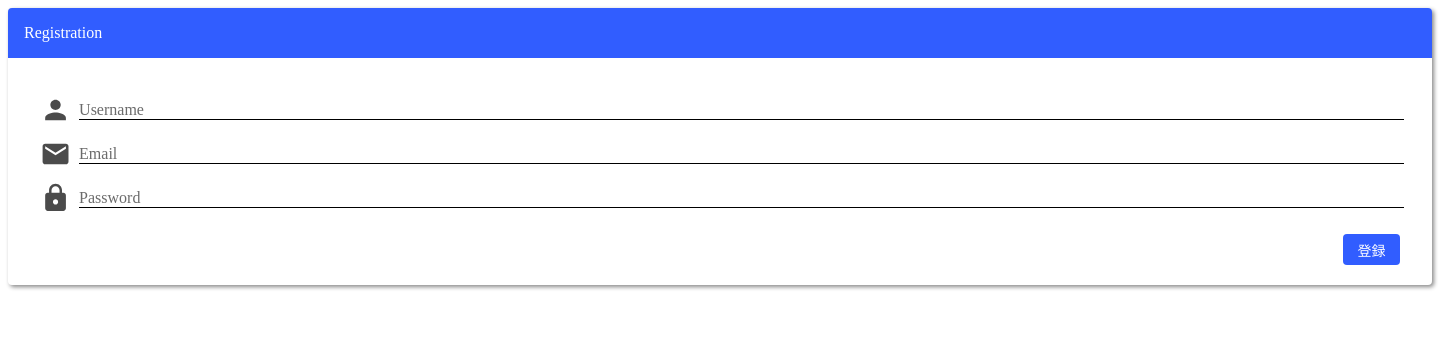
Test case: RegisterForm › パスワードが8文字未満の場合にバリデーションエラーが発生する
The image size is (1440, 361).
Type "pass" into the password field labelled "Password" at (742, 198), box [79, 188, 1404, 208]
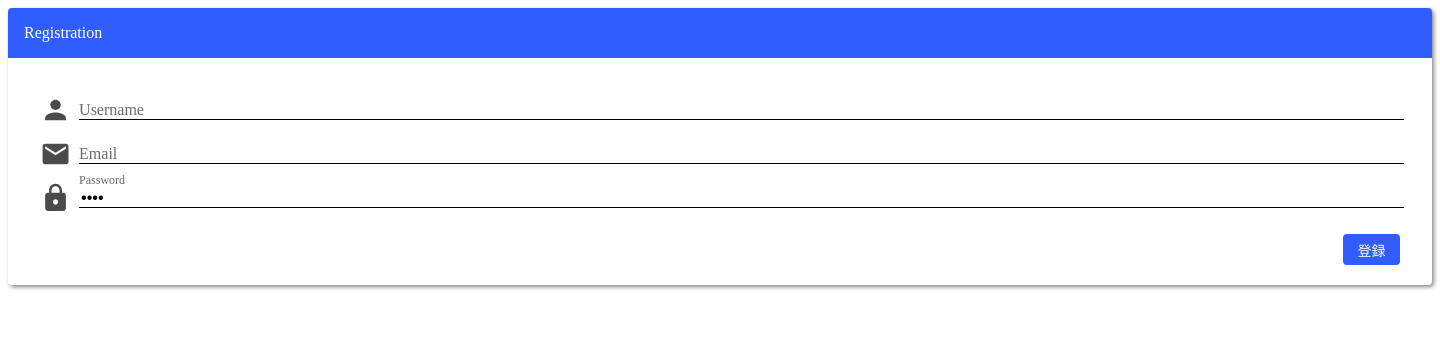
Click the button "登録" at (1372, 250), box [1343, 234, 1400, 265]
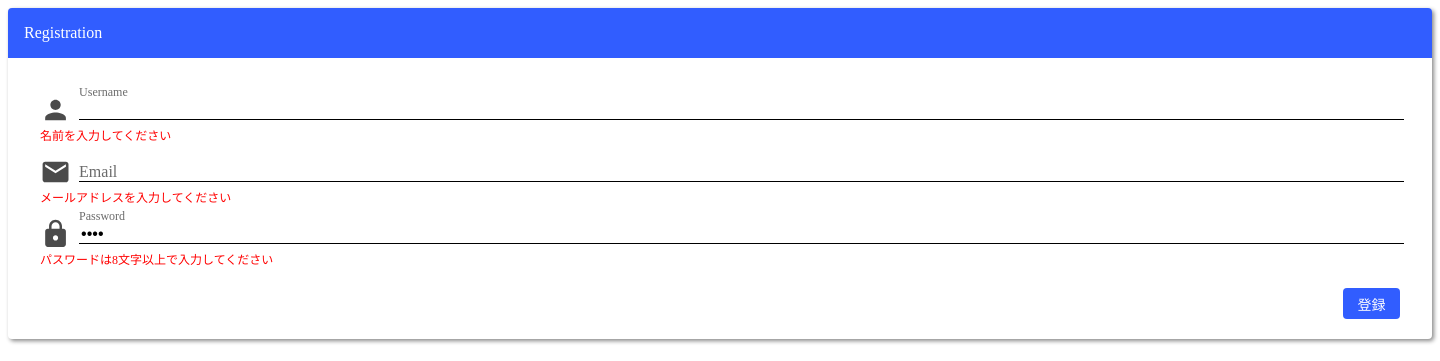
Check: the text "パスワードは8文字以上で入力してください" is shown, box [40, 253, 273, 267]
